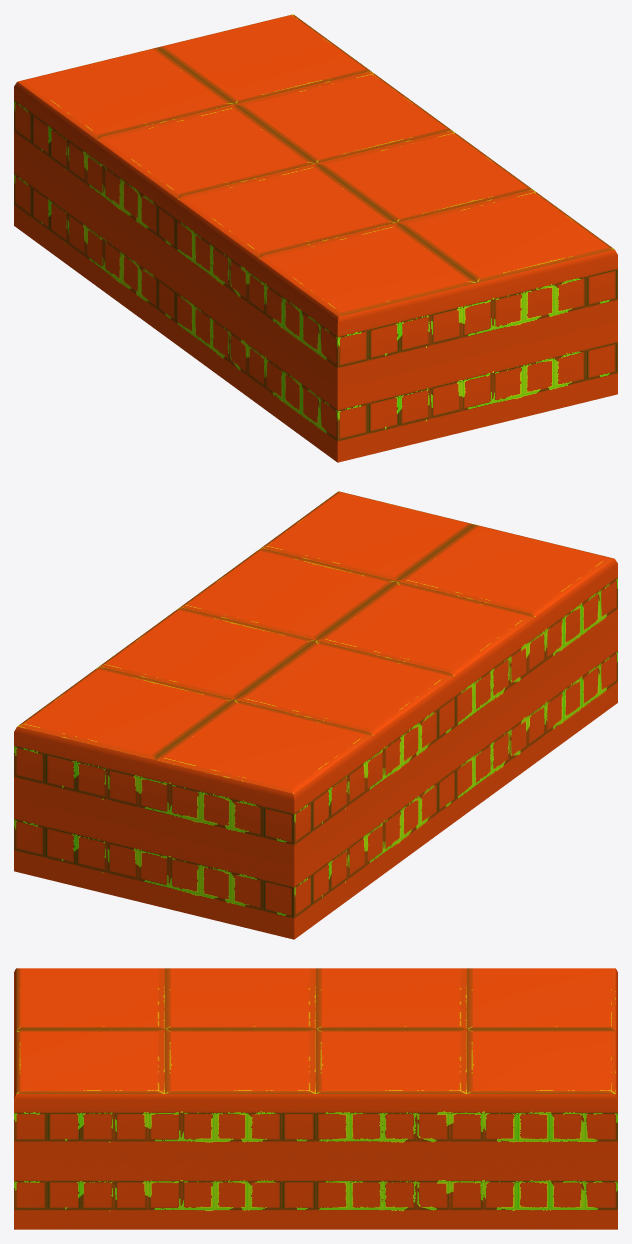
File: Half Floor Tile.fbx
3 views of the same model, one above another, from view 1: azimuth 30°, elevation 25°; view 2: azimuth 150°, elevation 25°; view 3: azimuth 270°, elevation 25° (orthographic). The views are drawn at different scales.
Visible parts, largest first — view 1: pCube2; view 2: pCube2; view 3: pCube2.
Part boxes in pixels (x1,y1,x2,y2): pCube2: [14, 14, 617, 462]; pCube2: [14, 491, 617, 939]; pCube2: [14, 968, 617, 1229].
Bounding box in the file's own units: 100 × 50 × 200.
